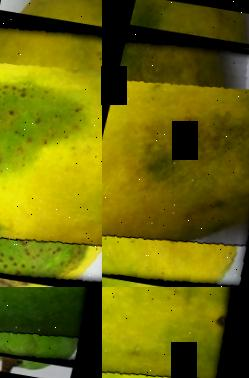PartiallyRipe: (102, 287, 249, 378)
Ripe: (102, 26, 249, 287), (0, 11, 102, 287)
Unripe: (0, 287, 102, 365)
